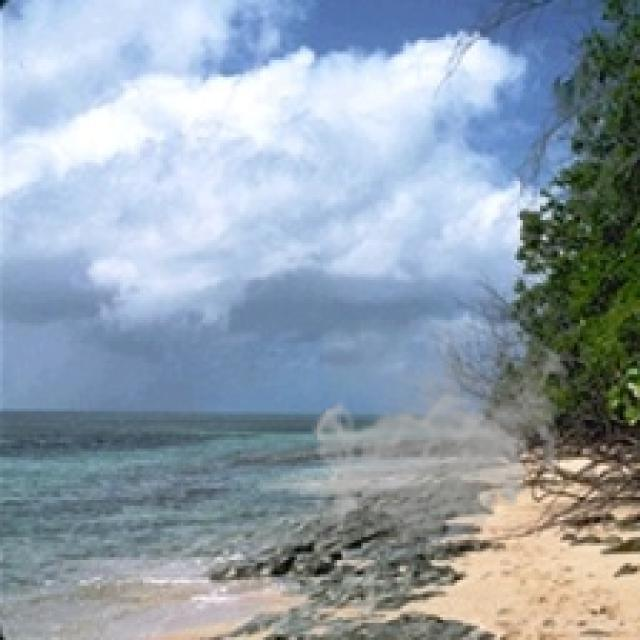Smoke: (308, 320, 578, 560)
